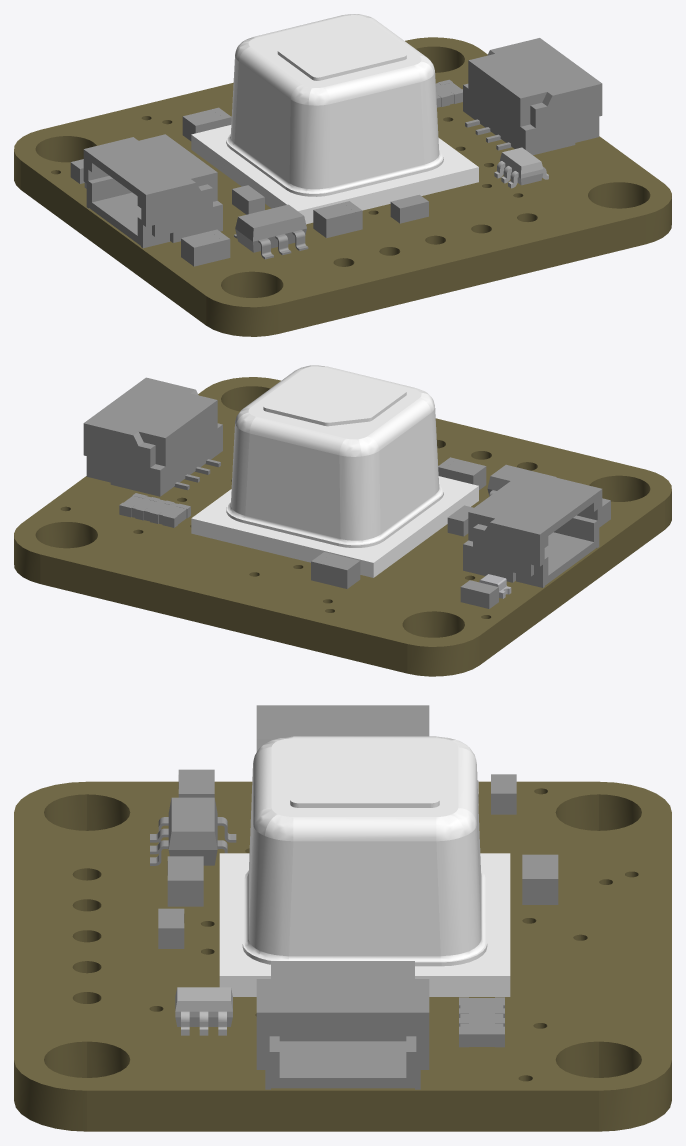
Rendered from ada-5187.glb.
3 views of the same model, one above another, from view 1: azimuth 30°, elevation 25°; view 2: azimuth 150°, elevation 25°; view 3: azimuth 270°, elevation 25° (orthographic). The views are drawn at different scales.
Visible parts, largest first — view 1: 0.16666666666666666_0.16666666666666666_0.08333333333333333_, 1_1_1_0.85, 0.3333333333333333_0.3333333333333333_0.3333333333333333_0, 0.5_0.5_0.5_0.85; view 2: 0.16666666666666666_0.16666666666666666_0.08333333333333333_, 1_1_1_0.85, 0.3333333333333333_0.3333333333333333_0.3333333333333333_0; view 3: 0.16666666666666666_0.16666666666666666_0.08333333333333333_, 1_1_1_0.85, 0.3333333333333333_0.3333333333333333_0.3333333333333333_0, 0.5_0.5_0.5_0.85.
Boxes of the visible parts, box(x1,y1,x2,y2) form: 0.16666666666666666_0.16666666666666666_0.08333333333333333_: box(14, 37, 671, 336); 1_1_1_0.85: box(191, 14, 478, 224); 0.3333333333333333_0.3333333333333333_0.3333333333333333_0: box(70, 38, 602, 266); 0.5_0.5_0.5_0.85: box(494, 147, 548, 188); 0.16666666666666666_0.16666666666666666_0.08333333333333333_: box(14, 377, 671, 676); 1_1_1_0.85: box(191, 365, 478, 577); 0.3333333333333333_0.3333333333333333_0.3333333333333333_0: box(83, 377, 610, 608); 0.16666666666666666_0.16666666666666666_0.08333333333333333_: box(14, 781, 671, 1131); 1_1_1_0.85: box(219, 736, 510, 996); 0.3333333333333333_0.3333333333333333_0.3333333333333333_0: box(150, 705, 558, 1089); 0.5_0.5_0.5_0.85: box(175, 987, 232, 1035).
Bounding box in the file's own units: 2.54 × 0.7879 × 2.29.
